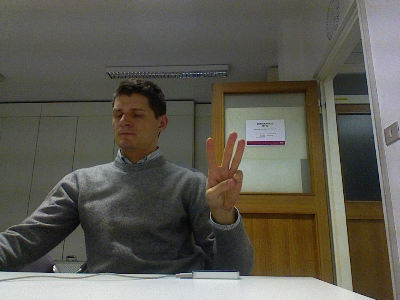三分: (202, 130, 246, 213)
